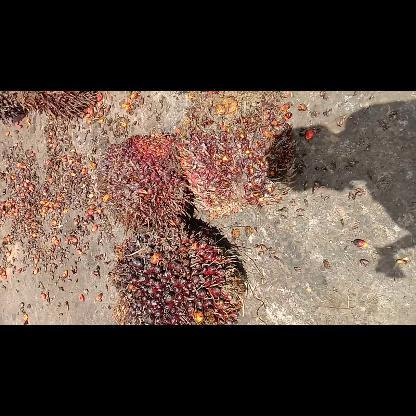Kurang masak: (176, 92, 300, 220)
TBS masak: (110, 228, 249, 324), (100, 134, 198, 230)
